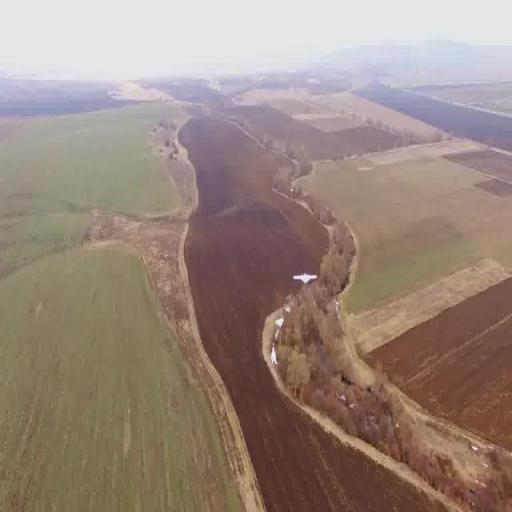uav: (290, 265, 320, 289)
